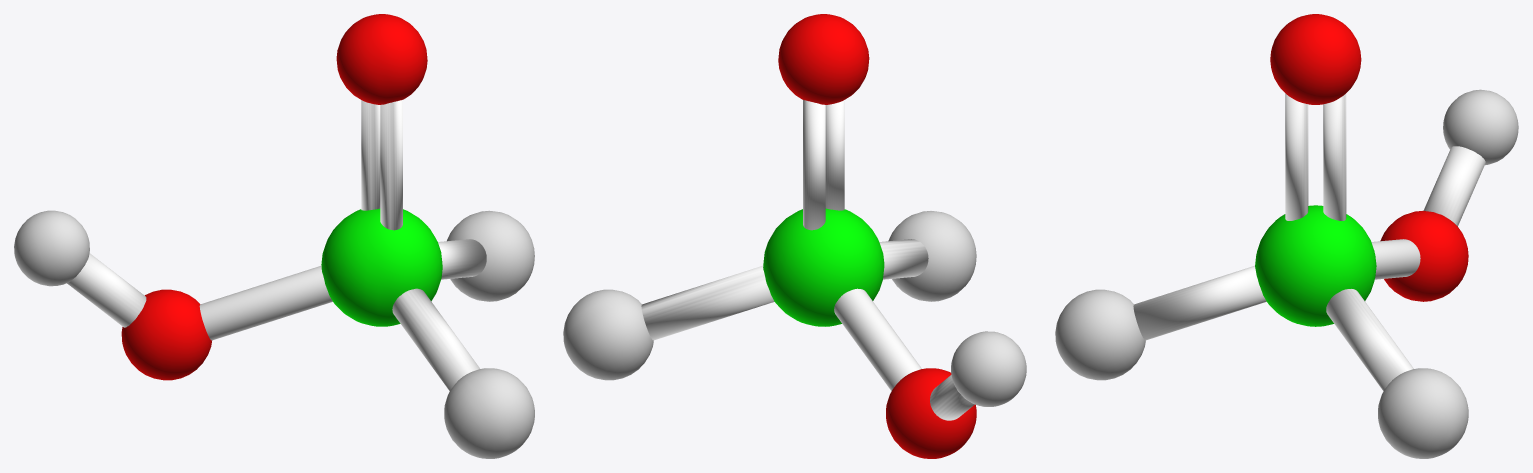
3 views of the same model, side by side, from view 1: azimuth 30°, elevation 25°; view 2: azimuth 150°, elevation 25°; view 3: azimuth 270°, elevation 25° (orthographic).
Parts seen in each view (by area): view 1: s-o-h.003; view 2: s-o-h.003; view 3: s-o-h.003.
Boxes of the visible parts, left/top/right/bottom form: s-o-h.003: left=14, top=14, right=534, bottom=458; s-o-h.003: left=563, top=14, right=1026, bottom=458; s-o-h.003: left=1055, top=14, right=1518, bottom=458.
Size of the model in its own units: 731 by 520 by 610.
